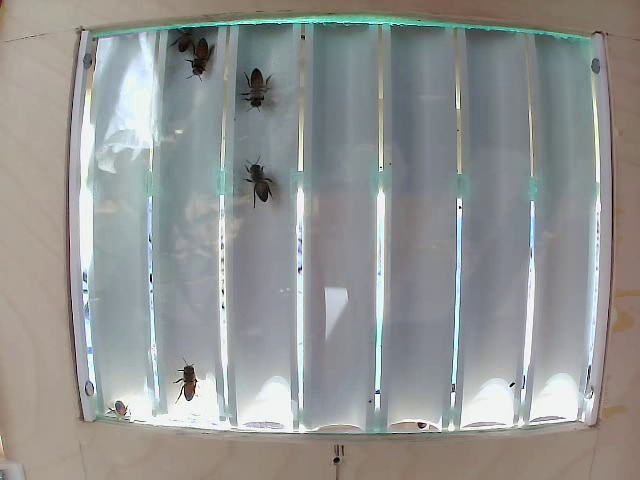bee: (167, 359, 210, 405), (235, 166, 280, 206), (241, 68, 277, 115), (171, 19, 204, 54), (189, 39, 214, 82)
